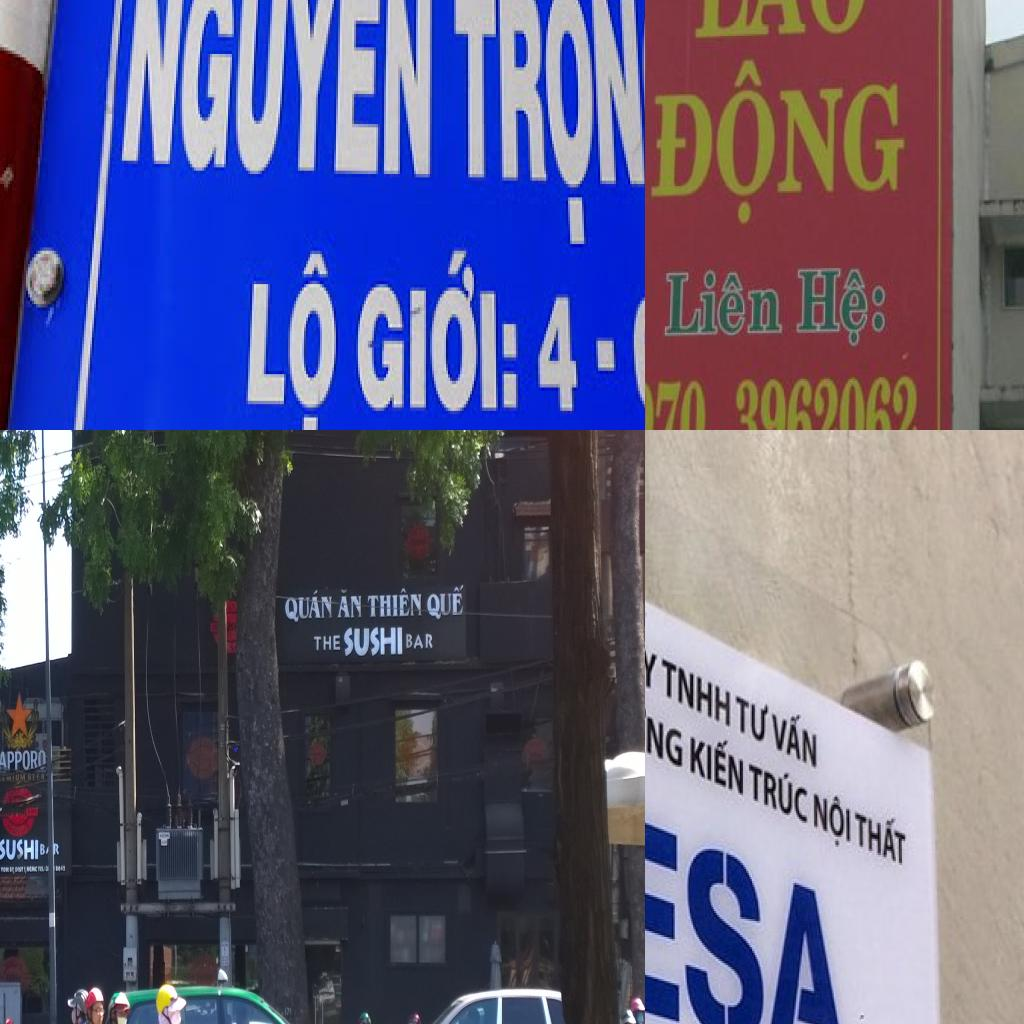text: (118, 0, 438, 184), (645, 756, 859, 1024), (450, 0, 645, 254), (645, 51, 905, 233), (354, 244, 520, 421), (244, 247, 340, 430), (660, 261, 784, 340), (788, 259, 885, 350), (687, 0, 875, 44), (663, 650, 734, 730), (536, 298, 580, 418), (748, 751, 810, 831), (688, 726, 748, 798), (855, 801, 913, 875), (645, 377, 722, 430), (645, 690, 687, 778), (772, 704, 822, 772), (812, 783, 854, 855), (735, 686, 772, 748), (342, 627, 404, 658), (366, 587, 423, 619), (284, 590, 332, 624), (426, 584, 465, 620), (0, 750, 46, 772), (0, 837, 39, 861), (645, 632, 661, 690), (336, 587, 362, 620), (313, 634, 341, 652), (406, 633, 434, 650), (27, 773, 46, 782), (15, 773, 26, 782), (53, 842, 60, 856), (26, 865, 38, 873), (40, 842, 46, 856), (0, 866, 10, 874), (55, 865, 66, 872), (15, 866, 24, 874), (9, 866, 15, 875), (38, 866, 46, 872), (45, 866, 49, 872), (24, 865, 26, 875)
